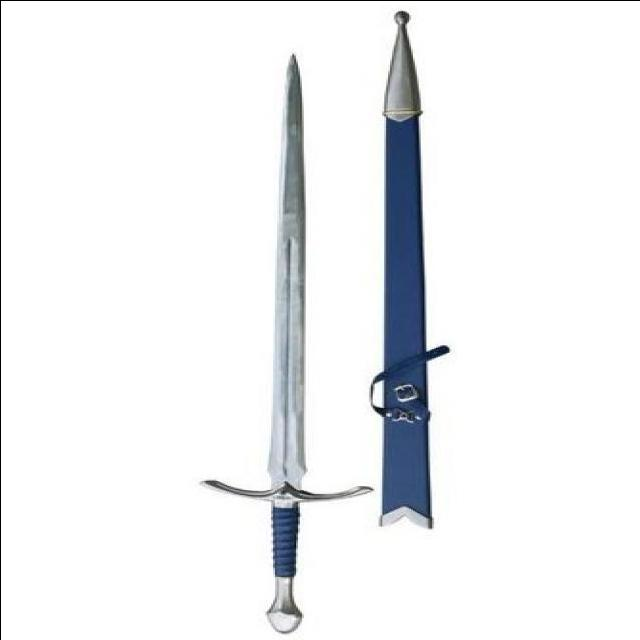scabbard: (373, 1, 452, 537)
sword: (209, 49, 376, 629)
